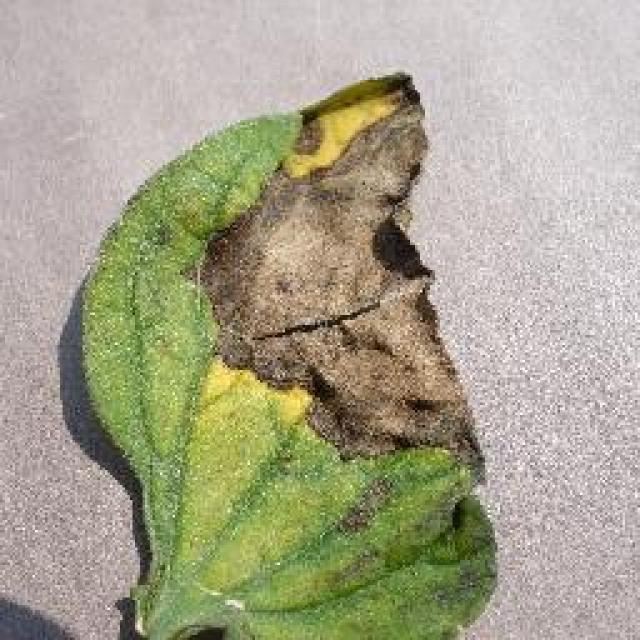Tomato late blight leaf: (77, 70, 505, 640)
